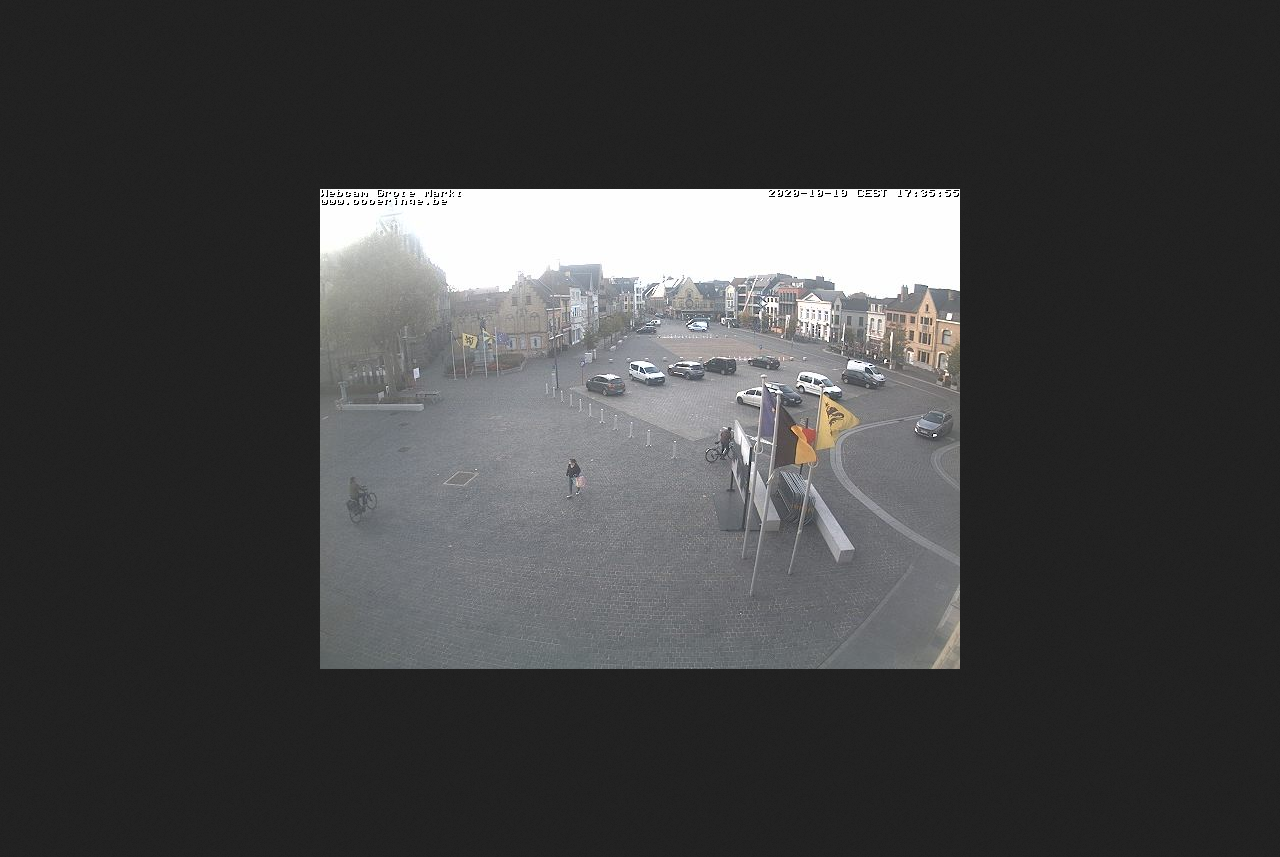yes: (775, 404, 818, 477), (817, 395, 860, 461), (759, 384, 797, 450)
